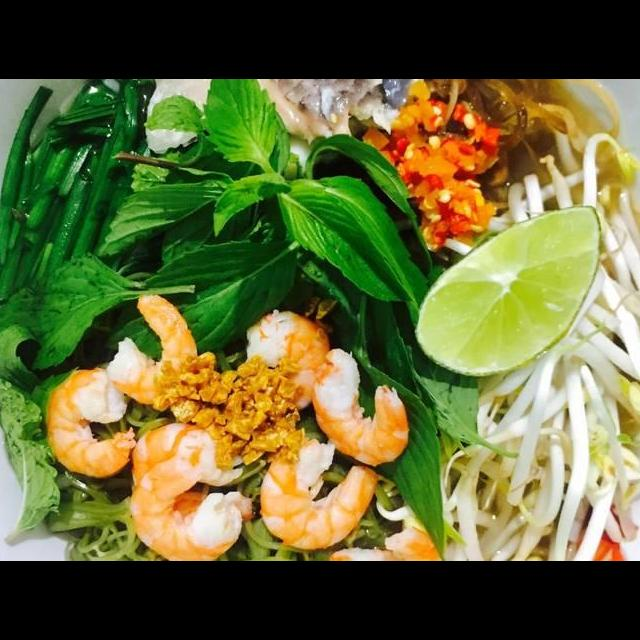tom: (125, 412, 258, 533), (254, 432, 386, 553), (118, 445, 248, 561), (309, 337, 414, 472), (98, 286, 207, 415), (37, 359, 143, 483), (228, 301, 335, 422)
